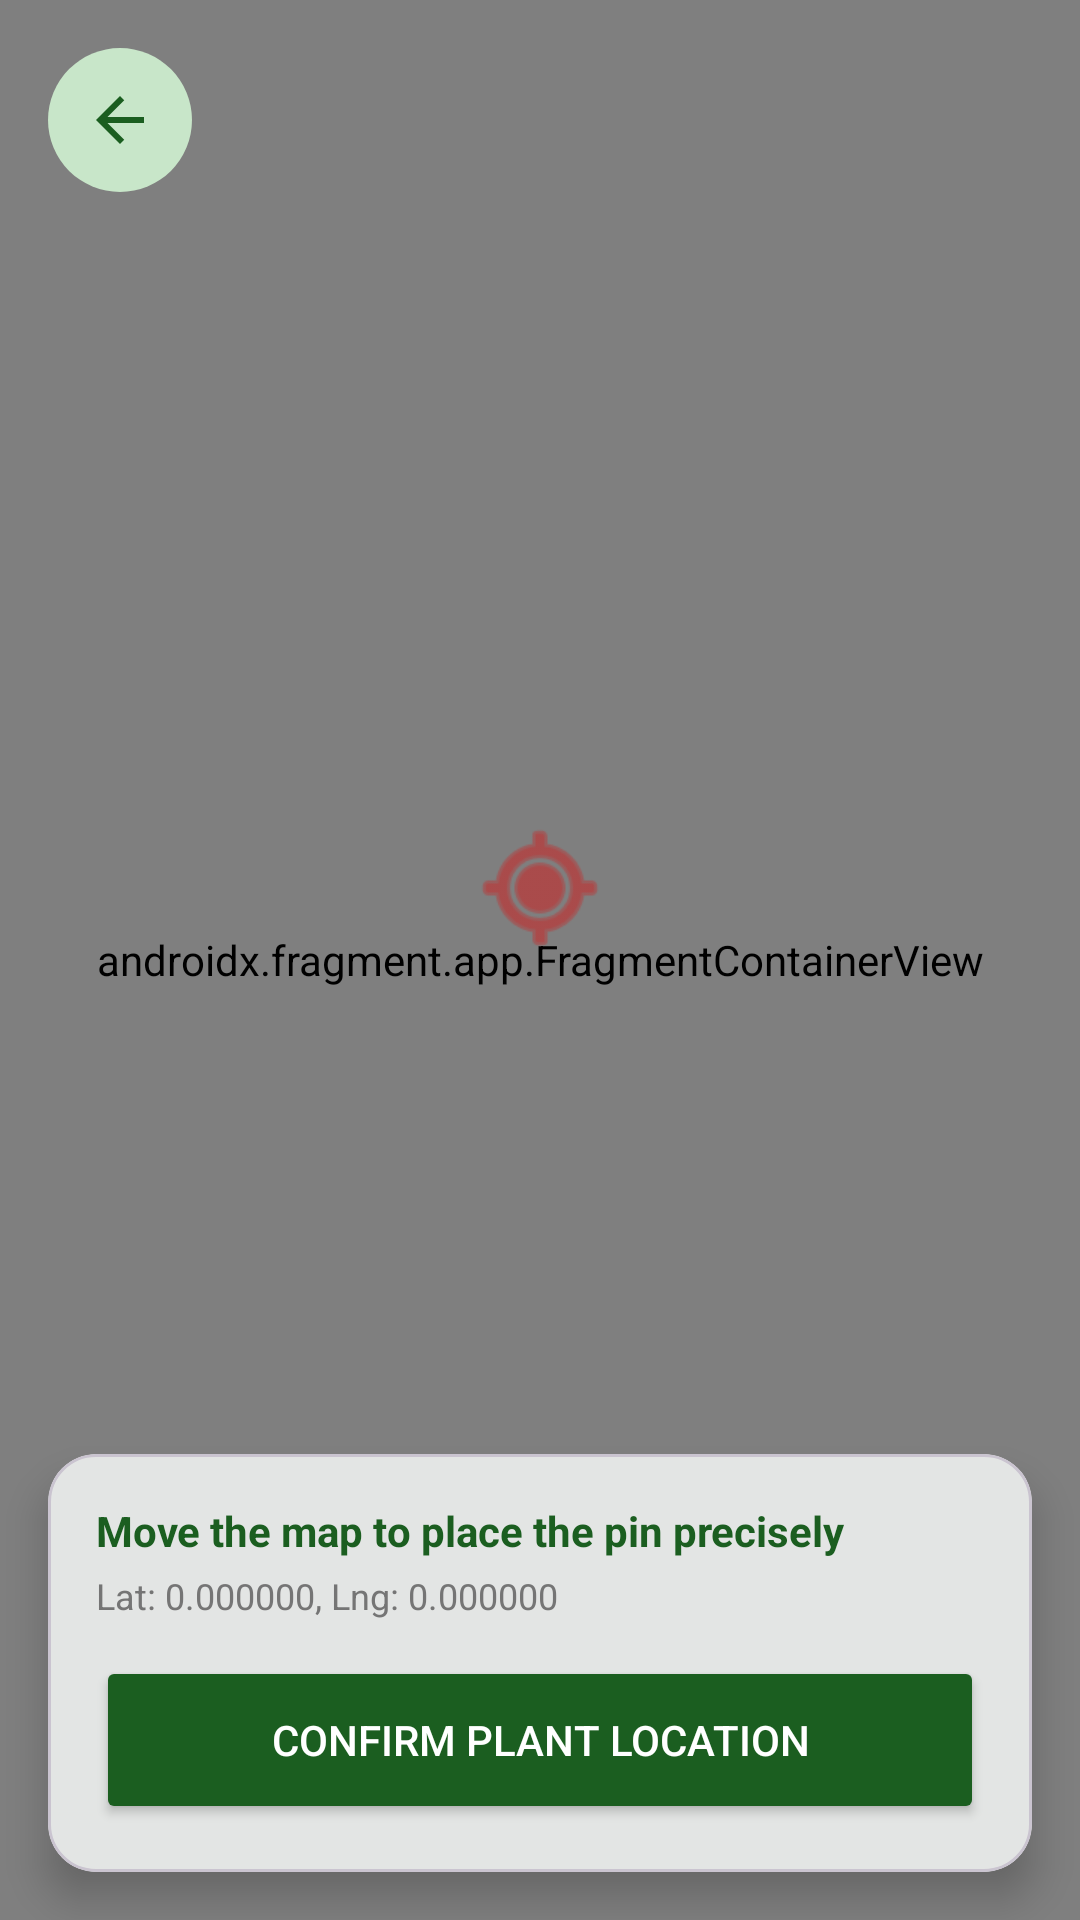

Point at icon controls on the screen. Image size 1080 x 1920, points as [x,y].
arrow back: [120,120]
